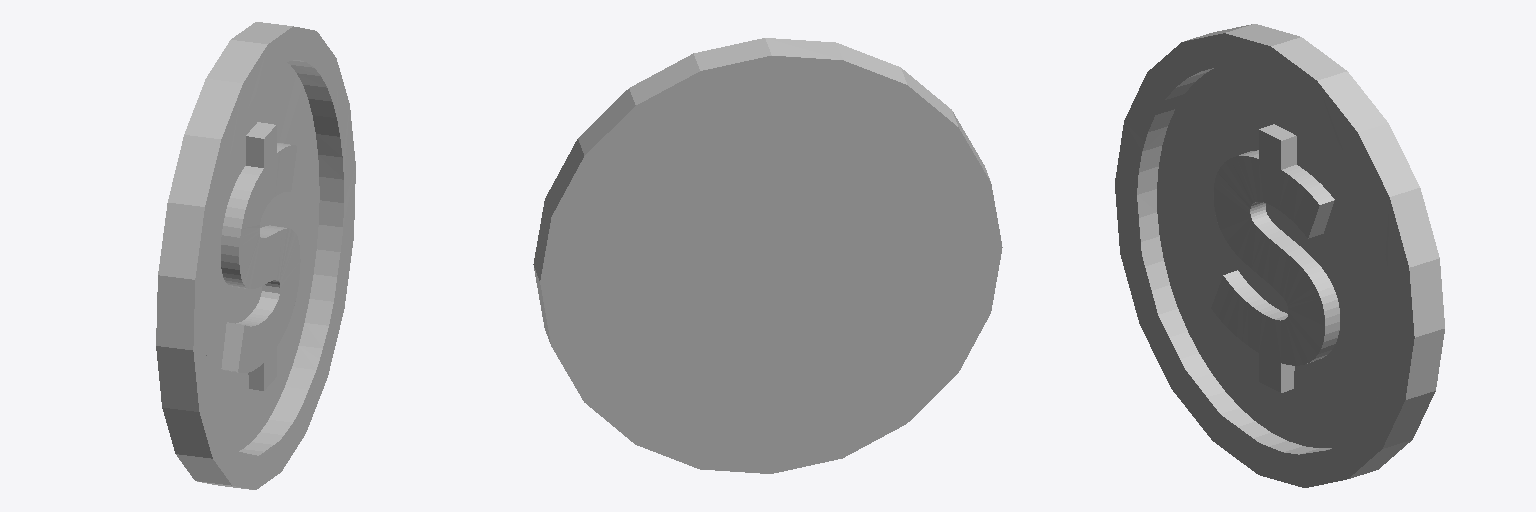
File: coin.obj
3 views of the same model, side by side, from view 1: azimuth 30°, elevation 25°; view 2: azimuth 150°, elevation 25°; view 3: azimuth 270°, elevation 25° (orthographic).
Visible parts, largest first — view 1: 000_coin; view 2: 000_coin; view 3: 000_coin.
Boxes of the visible parts, x1=… form: 000_coin: x1=156, y1=22, x2=355, y2=489; 000_coin: x1=533, y1=38, x2=1002, y2=473; 000_coin: x1=1115, y1=24, x2=1444, y2=487.
Size of the model in its own units: 5.66 by 6.89 by 4.85.